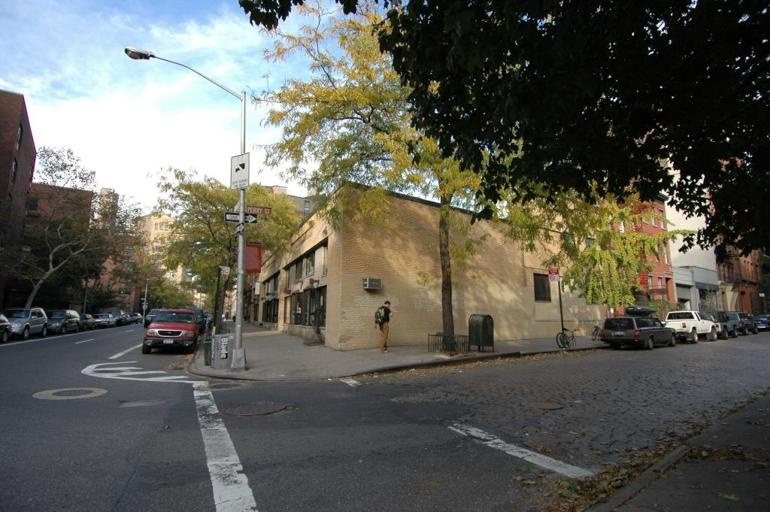non-vehicle: (555, 327, 580, 348), (591, 324, 601, 340)
